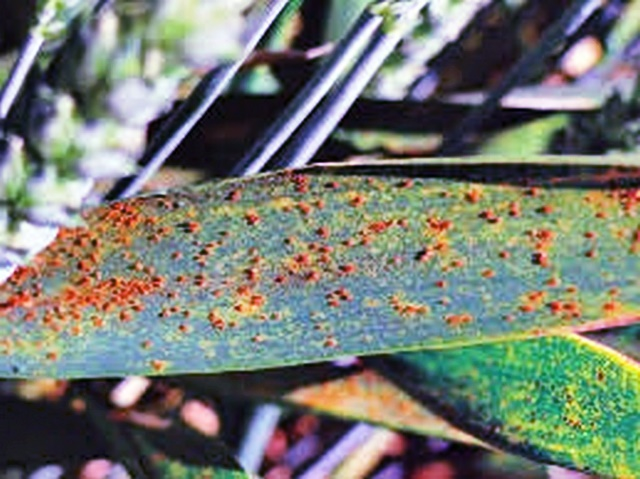Leaf Rust: (47, 159, 627, 390)
